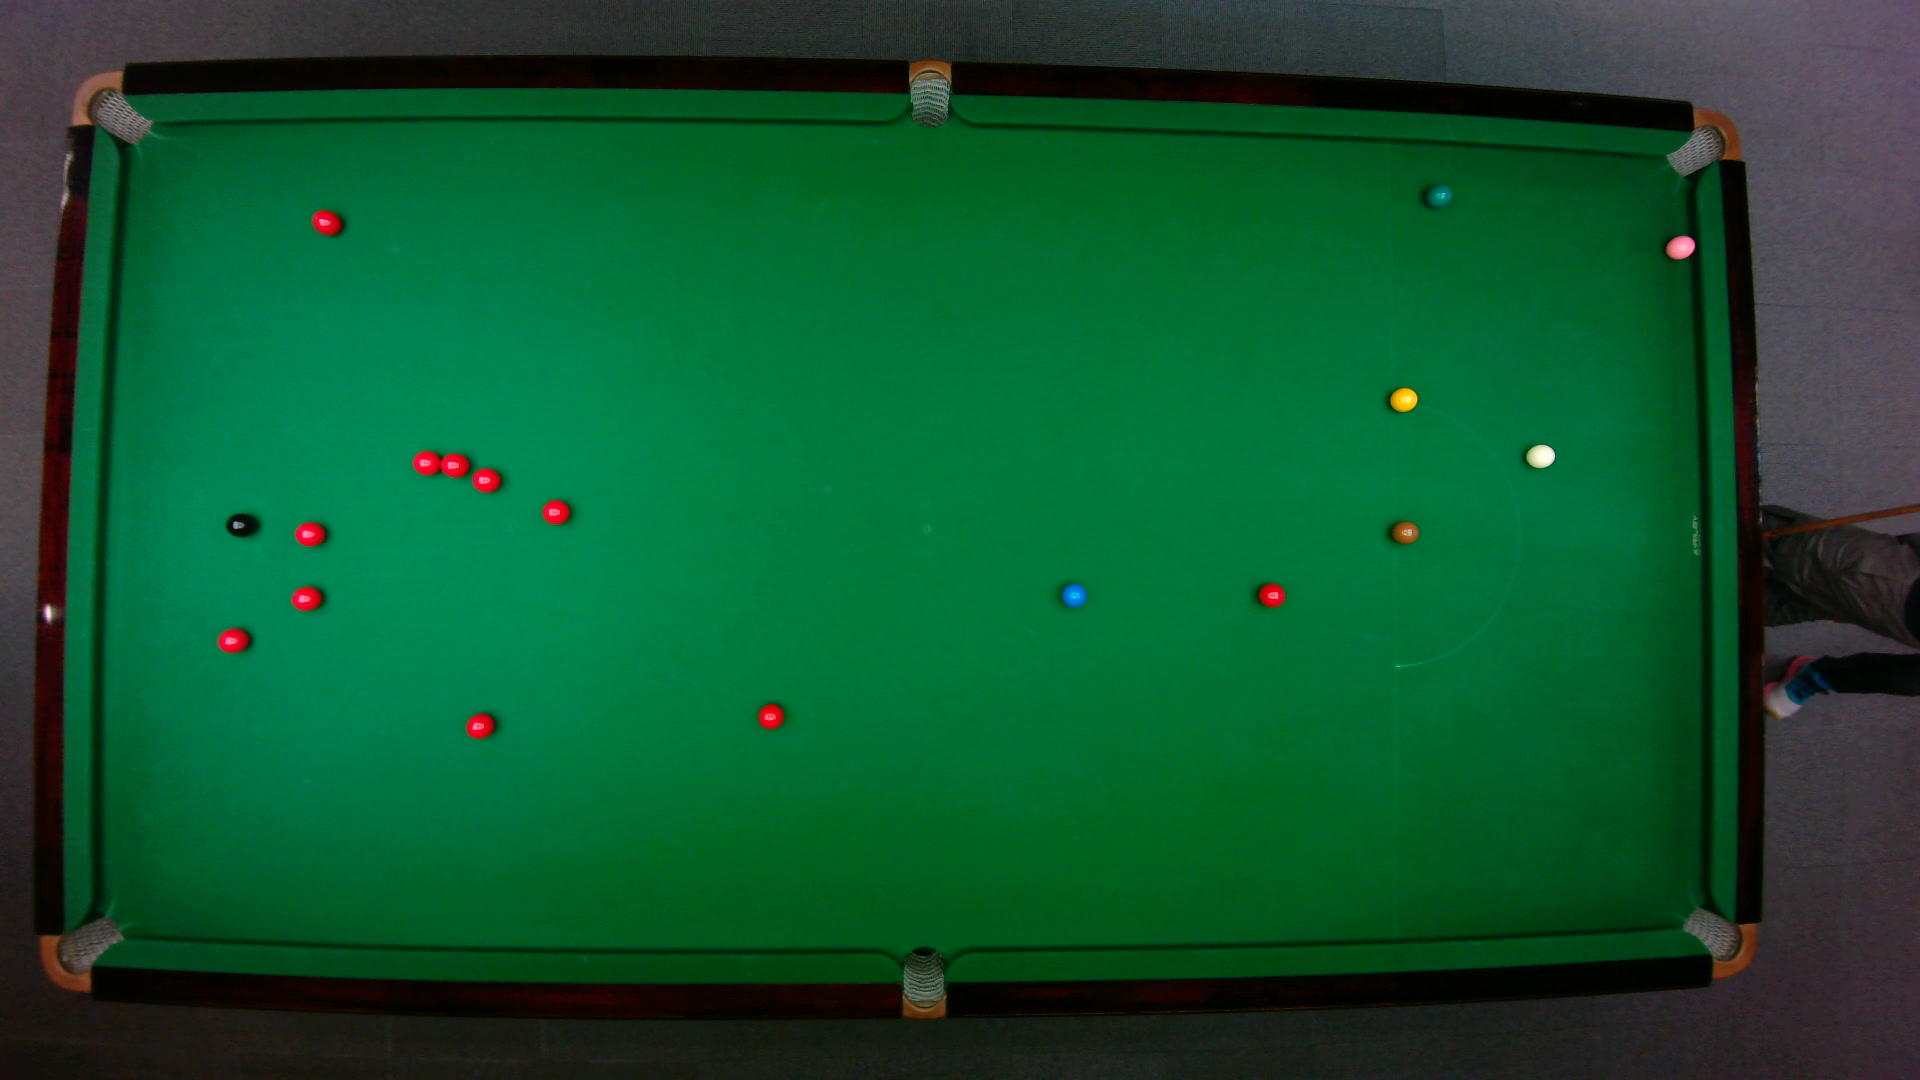bag: (38, 914, 125, 992), (69, 69, 152, 144), (1679, 905, 1756, 978), (1663, 107, 1741, 177), (901, 944, 945, 1021), (909, 57, 949, 128)
black: (223, 512, 256, 537)
blue: (1059, 582, 1088, 608)
brown: (1389, 520, 1419, 545)
green: (1423, 182, 1453, 208)
pink: (1663, 232, 1697, 260)
red: (215, 625, 251, 653), (463, 709, 496, 738), (289, 583, 323, 611), (310, 207, 342, 236), (293, 520, 326, 547), (469, 465, 501, 493), (756, 702, 785, 731), (439, 450, 469, 477), (410, 448, 440, 475), (541, 498, 570, 525), (1255, 582, 1286, 607)
white: (1523, 440, 1556, 468)
yellow: (1387, 385, 1418, 411)
zone: (1389, 401, 1520, 666)
